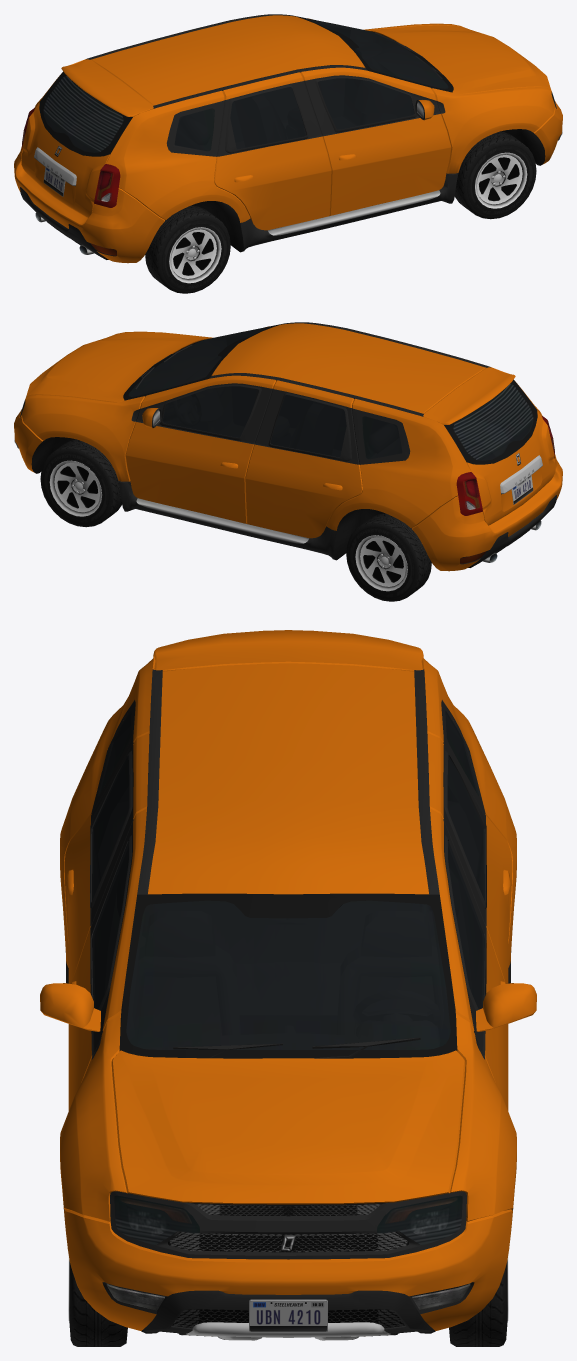
File: urban10.glb
The picture shows the model from 3 angles, top to bottom: view 1: azimuth 30°, elevation 25°; view 2: azimuth 150°, elevation 25°; view 3: azimuth 270°, elevation 25°; orthographic projection. The views are drawn at different scales.
Visible parts, largest first — view 1: Urban10_body_Urban10_bodymat_0, Urban10_Bottom_UCB_BOTTOM_LT_0, Urban10_Interior_UCB_Interiors_2_0, Urban10_WheelStock_RR_RB1c_Tire_1k_0, Urban10_WheelStock_FR_RB1c_Tire_1k_0, Urban10_Bumper_Rear_Urban10_bodymat_0, Urban10_Body_Glass_UCB_Lights_and_Glass_Transperent_0, Urban10_Glass_Rear_UCB_Lights_and_Glass_Transperent_0, Urban10_Glass_Passenger_UCB_Lights_and_Glass_Transperent_0, Urban10_Windshield_UCB_Lights_and_Glass_Transperent_0, Urban10_Taillights_Glass_UCB_Lights_and_Glass_Transperent_0, Urban10_Bumper_Rear_Inner_UCB_BOTTOM_LT_0 (+2 smaller); view 2: Urban10_body_Urban10_bodymat_0, Urban10_Bottom_UCB_BOTTOM_LT_0, Urban10_Interior_UCB_Interiors_2_0, Urban10_WheelStock_RL_RB1c_Tire_1k_0, Urban10_WheelStock_FL_RB1c_Tire_1k_0, Urban10_Bumper_Rear_Urban10_bodymat_0, Urban10_Body_Glass_UCB_Lights_and_Glass_Transperent_0, Urban10_Glass_Rear_UCB_Lights_and_Glass_Transperent_0, Urban10_Glass_Driver_UCB_Lights_and_Glass_Transperent_0, Urban10_Windshield_UCB_Lights_and_Glass_Transperent_0, Urban10_Taillights_Glass_UCB_Lights_and_Glass_Transperent_0, Urban10_Bumper_Rear_Inner_UCB_BOTTOM_LT_0 (+3 smaller); view 3: Urban10_body_Urban10_bodymat_0, Urban10_Interior_UCB_Interiors_2_0, Urban10_Windshield_UCB_Lights_and_Glass_Transperent_0, Urban10_Bottom_UCB_BOTTOM_LT_0, Urban10_Bumper_Front_Urban10_bodymat_0, Urban10_Bumper_Front_Inner_UCB_BOTTOM_LT_0, Urban10_Body_Glass_UCB_Lights_and_Glass_Transperent_0, Urban10_Headlight_Glass_UCB_Lights_and_Glass_Transperent_0, Urban10_Glass_Passenger_UCB_Lights_and_Glass_Transperent_0, Urban10_Glass_Driver_UCB_Lights_and_Glass_Transperent_0, Urban10_Numberplate_Front_Numberplates_Misk_U_0, Urban10_WheelStock_FL_RB1c_Tire_1k_0 (+4 smaller).
Boxes of the visible parts, bbox=[...] form: Urban10_body_Urban10_bodymat_0: bbox=[21, 15, 555, 263]; Urban10_Bottom_UCB_BOTTOM_LT_0: bbox=[31, 14, 556, 254]; Urban10_Interior_UCB_Interiors_2_0: bbox=[45, 18, 447, 151]; Urban10_WheelStock_RR_RB1c_Tire_1k_0: bbox=[145, 205, 230, 293]; Urban10_WheelStock_FR_RB1c_Tire_1k_0: bbox=[454, 131, 536, 219]; Urban10_Bumper_Rear_Urban10_bodymat_0: bbox=[14, 146, 164, 262]; Urban10_Body_Glass_UCB_Lights_and_Glass_Transperent_0: bbox=[174, 87, 306, 151]; Urban10_Glass_Rear_UCB_Lights_and_Glass_Transperent_0: bbox=[43, 76, 123, 152]; Urban10_Glass_Passenger_UCB_Lights_and_Glass_Transperent_0: bbox=[318, 78, 414, 129]; Urban10_Windshield_UCB_Lights_and_Glass_Transperent_0: bbox=[301, 17, 448, 88]; Urban10_Taillights_Glass_UCB_Lights_and_Glass_Transperent_0: bbox=[22, 108, 120, 207]; Urban10_Bumper_Rear_Inner_UCB_BOTTOM_LT_0: bbox=[20, 187, 116, 259]; Urban10_body_Urban10_bodymat_0: bbox=[21, 323, 555, 538]; Urban10_Bottom_UCB_BOTTOM_LT_0: bbox=[20, 322, 553, 562]; Urban10_Interior_UCB_Interiors_2_0: bbox=[129, 327, 531, 459]; Urban10_WheelStock_RL_RB1c_Tire_1k_0: bbox=[346, 513, 431, 601]; Urban10_WheelStock_FL_RB1c_Tire_1k_0: bbox=[40, 439, 122, 527]; Urban10_Bumper_Rear_Urban10_bodymat_0: bbox=[412, 454, 562, 571]; Urban10_Body_Glass_UCB_Lights_and_Glass_Transperent_0: bbox=[270, 395, 402, 459]; Urban10_Glass_Rear_UCB_Lights_and_Glass_Transperent_0: bbox=[453, 384, 533, 460]; Urban10_Glass_Driver_UCB_Lights_and_Glass_Transperent_0: bbox=[162, 386, 258, 437]; Urban10_Windshield_UCB_Lights_and_Glass_Transperent_0: bbox=[128, 325, 275, 396]; Urban10_Taillights_Glass_UCB_Lights_and_Glass_Transperent_0: bbox=[456, 416, 554, 515]; Urban10_Bumper_Rear_Inner_UCB_BOTTOM_LT_0: bbox=[460, 495, 556, 567]; Urban10_body_Urban10_bodymat_0: bbox=[40, 630, 536, 1259]; Urban10_Interior_UCB_Interiors_2_0: bbox=[94, 670, 482, 1204]; Urban10_Windshield_UCB_Lights_and_Glass_Transperent_0: bbox=[126, 900, 450, 1049]; Urban10_Bottom_UCB_BOTTOM_LT_0: bbox=[63, 669, 513, 1259]; Urban10_Bumper_Front_Urban10_bodymat_0: bbox=[64, 1209, 512, 1330]; Urban10_Bumper_Front_Inner_UCB_BOTTOM_LT_0: bbox=[102, 1282, 474, 1340]; Urban10_Body_Glass_UCB_Lights_and_Glass_Transperent_0: bbox=[92, 710, 484, 900]; Urban10_Headlight_Glass_UCB_Lights_and_Glass_Transperent_0: bbox=[114, 1195, 462, 1245]; Urban10_Glass_Passenger_UCB_Lights_and_Glass_Transperent_0: bbox=[92, 840, 129, 1009]; Urban10_Glass_Driver_UCB_Lights_and_Glass_Transperent_0: bbox=[447, 840, 484, 1009]; Urban10_Numberplate_Front_Numberplates_Misk_U_0: bbox=[249, 1299, 327, 1331]; Urban10_WheelStock_FL_RB1c_Tire_1k_0: bbox=[449, 1256, 508, 1346].
Size of the model in its own units: 4.29 by 1.52 by 1.88.
Materials: 8 (7 with a texture image).
